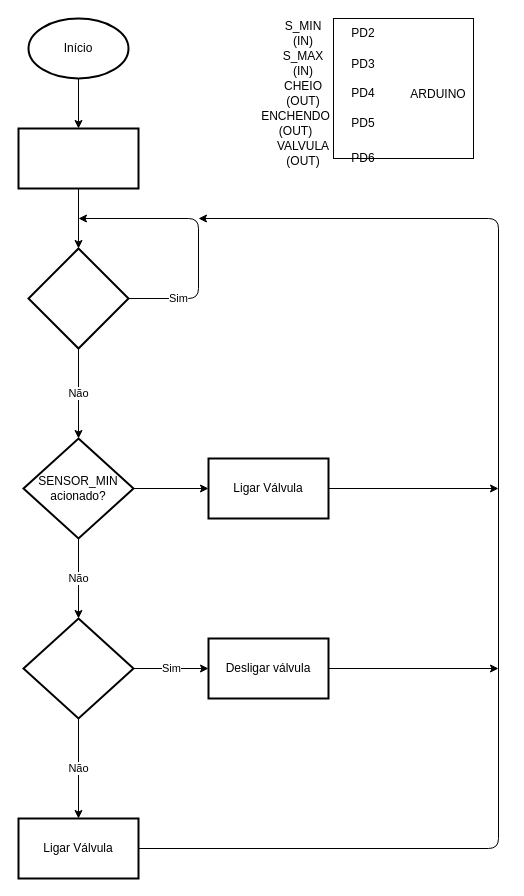
Some shapes in this 524 by 896 pixel diagram are drawn without their labels. The centre of each missing label's shape, as x and y in pixels:
"Caso Espera" goes at [78,298].
"Estado = Espera" goes at [78,158].
"SENSOR_MAX acionado?" goes at [78,668].
